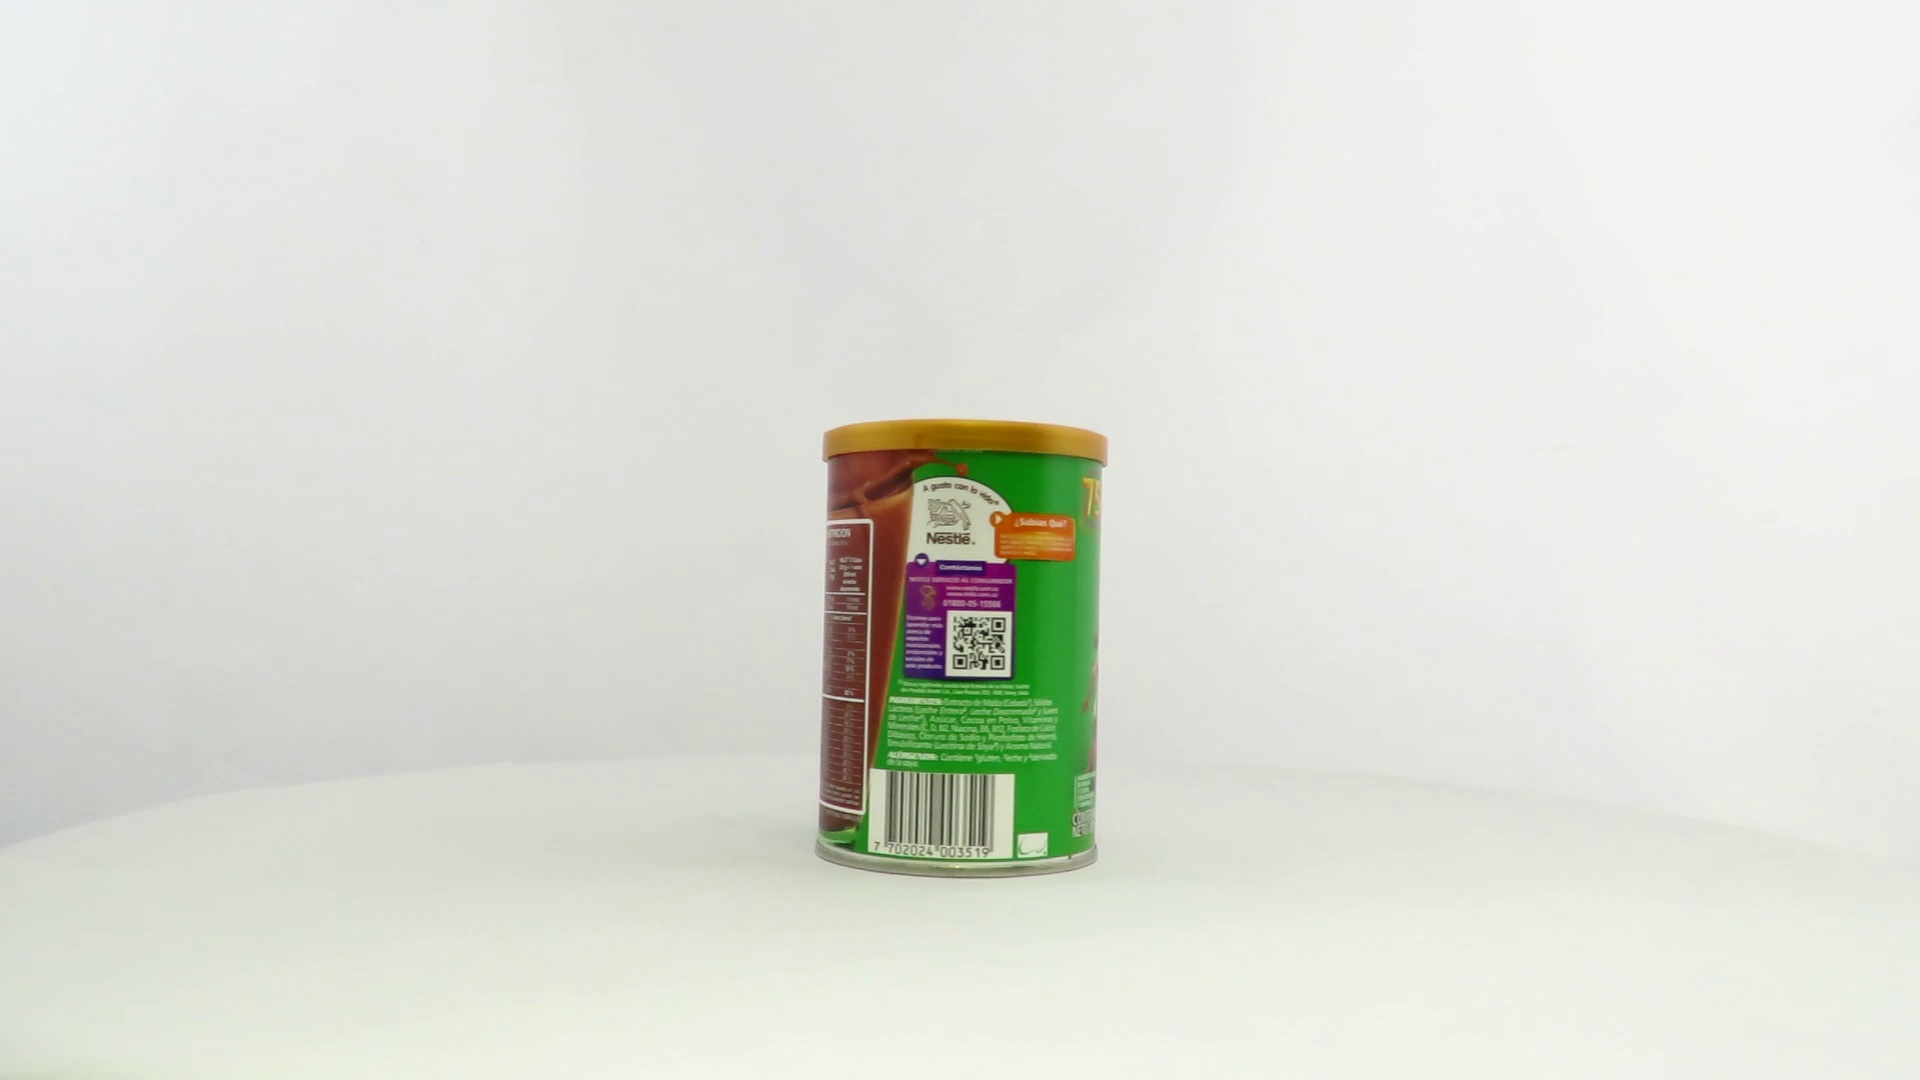COL0170203LAT20000: (808, 413, 1114, 885)
